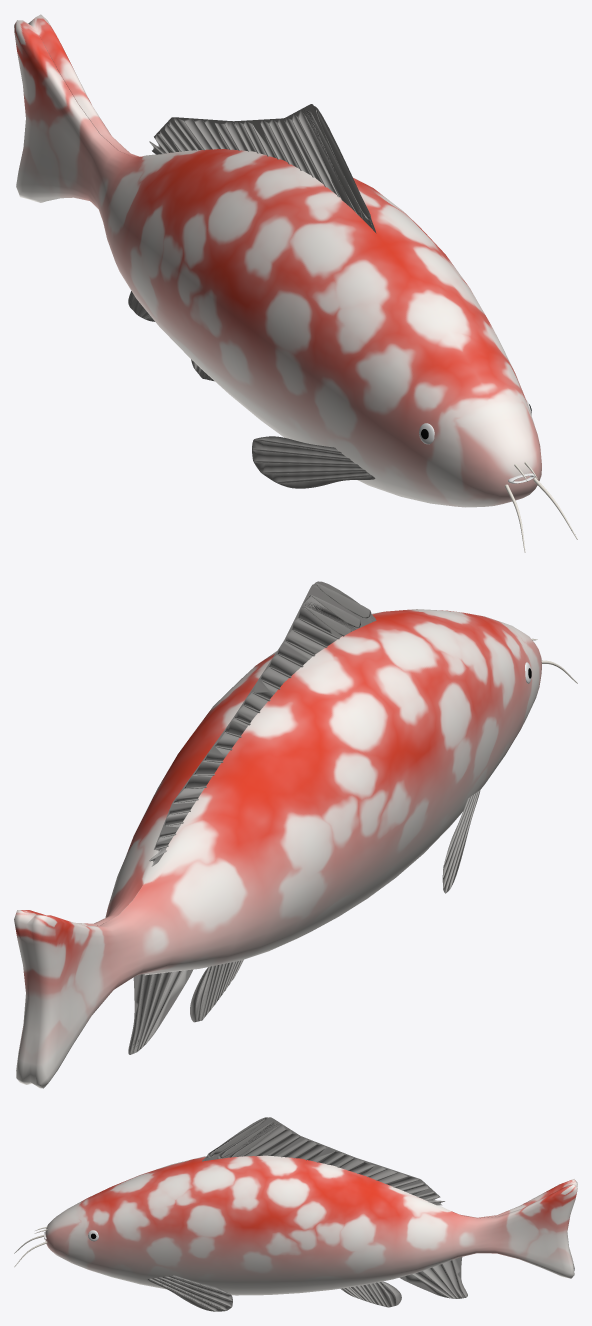
The model's file is koi_static.fbx.
3 views of the same model, one above another, from view 1: azimuth 30°, elevation 25°; view 2: azimuth 150°, elevation 25°; view 3: azimuth 270°, elevation 25° (orthographic). The views are drawn at different scales.
Visible parts, largest first — view 1: koi; view 2: koi; view 3: koi.
Boxes of the visible parts, x1,y1,x2,y2 form: koi: (14,14,577,552); koi: (14,581,577,1088); koi: (14,1117,577,1311).
Size of the model in its own units: 0.1048 by 0.1862 by 0.5.
Materials: 1 (1 with a texture image).
